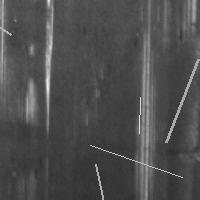scratches: (131, 27, 160, 200), (85, 140, 187, 182), (161, 54, 200, 147), (40, 1, 57, 137), (90, 159, 119, 200), (0, 0, 16, 40), (134, 92, 145, 138)
